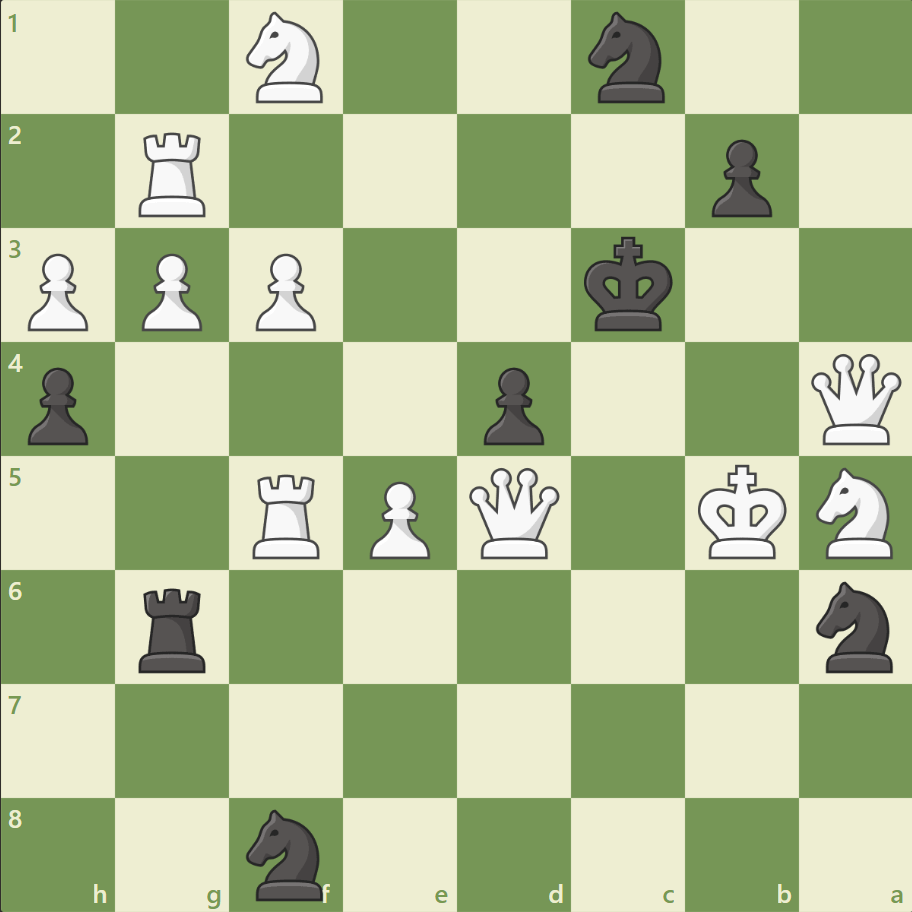K: (692, 458, 792, 566)
N: (806, 461, 903, 564), (238, 7, 335, 110)
P: (247, 246, 322, 337), (133, 246, 208, 337), (20, 246, 95, 337), (361, 473, 435, 564)
Q: (805, 349, 904, 449), (464, 463, 563, 562)
R: (246, 466, 329, 563), (133, 125, 215, 222)
k: (579, 231, 679, 339)
n: (579, 7, 676, 110), (238, 802, 335, 904), (806, 575, 903, 677)
p: (474, 359, 549, 450), (20, 359, 95, 450), (701, 132, 776, 223)
r: (133, 579, 215, 676)
